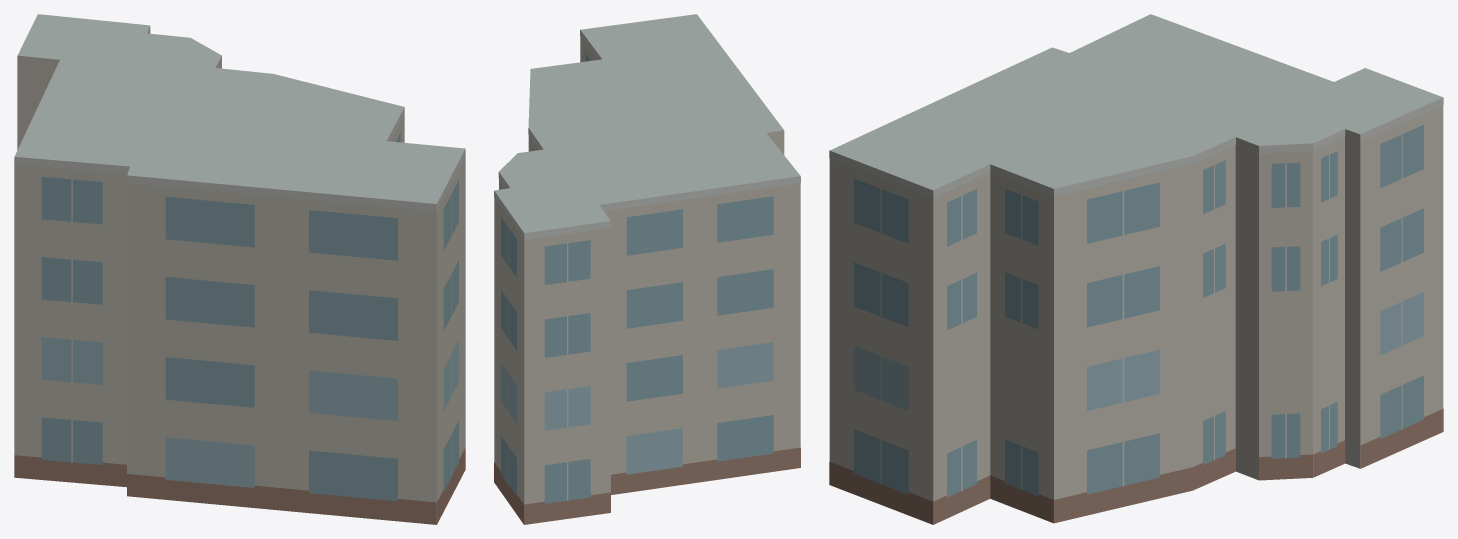
Rendered from survey-upis-32874917.glb.
3 views of the same model, side by side, from view 1: azimuth 30°, elevation 25°; view 2: azimuth 150°, elevation 25°; view 3: azimuth 270°, elevation 25° (orthographic). The views are drawn at different scales.
Parts seen in each view (by area): view 1: survey-upis-32874917.tmp; view 2: survey-upis-32874917.tmp; view 3: survey-upis-32874917.tmp.
Boxes of the visible parts, box(x1,y1,x2,y2) form: survey-upis-32874917.tmp: box(14, 14, 465, 524); survey-upis-32874917.tmp: box(494, 14, 800, 524); survey-upis-32874917.tmp: box(829, 14, 1443, 524).
Bounding box in the file's own units: 11.89 × 10.5 × 17.47.
